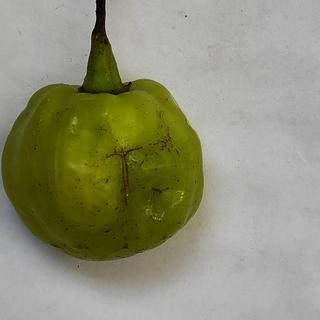Defect: (149, 127, 186, 158), (149, 183, 173, 198)
Fly-bites: (100, 224, 114, 238), (54, 215, 68, 225), (121, 241, 131, 251), (83, 244, 91, 251)
striped: (106, 142, 146, 207)
